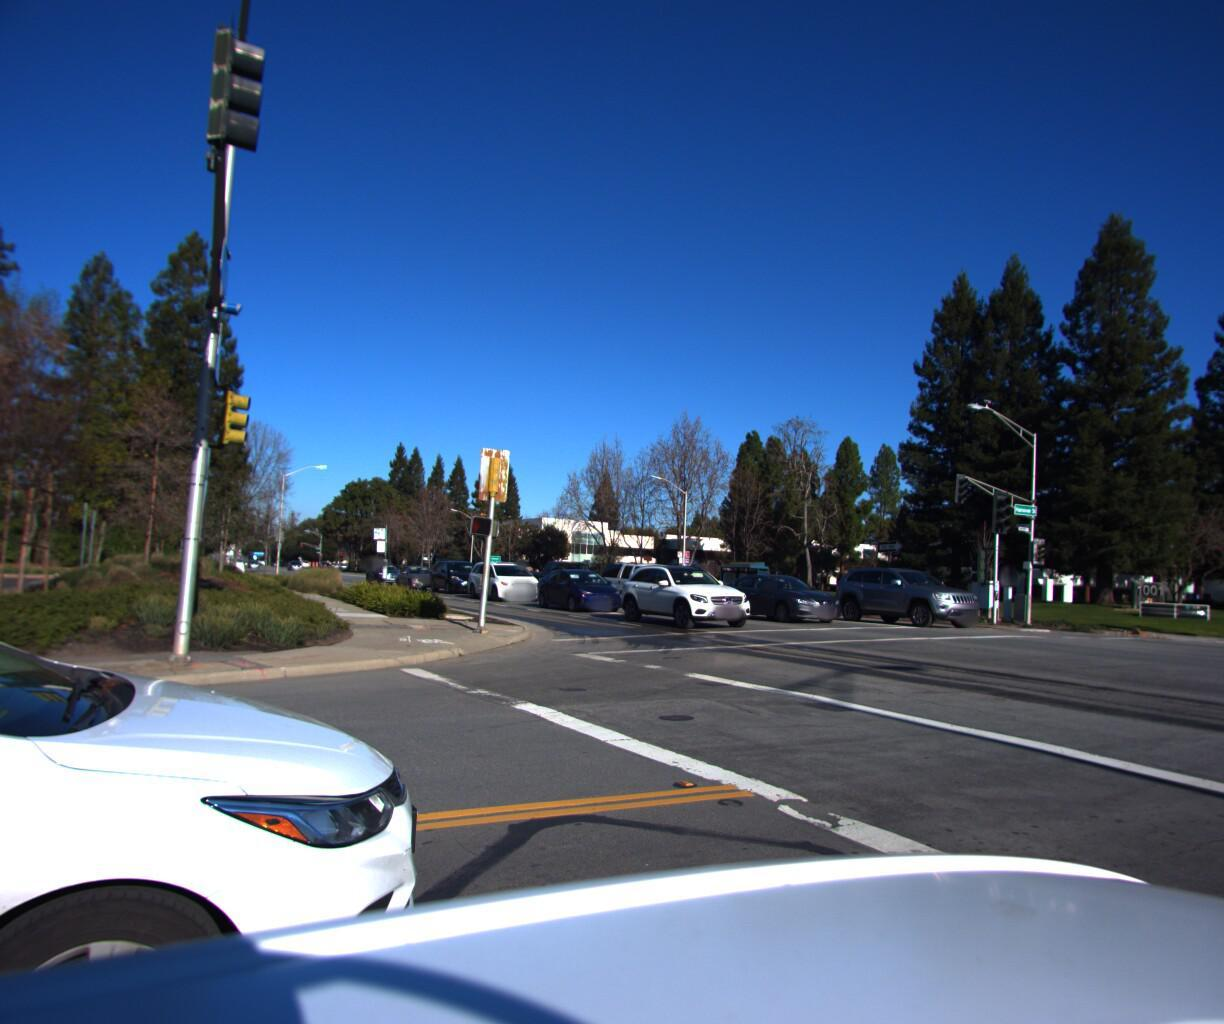car: (0, 243, 463, 1024), (824, 557, 995, 624), (612, 551, 764, 624), (699, 561, 854, 620), (592, 549, 710, 606), (529, 558, 633, 609), (460, 552, 549, 600), (425, 552, 491, 592), (389, 557, 448, 586), (360, 555, 410, 581)
